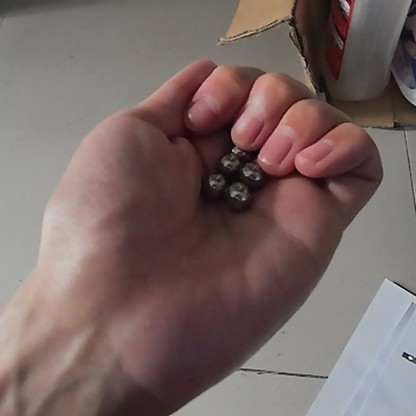ironball: (237, 158, 266, 189), (198, 172, 229, 201), (224, 180, 252, 209), (212, 150, 241, 175), (227, 140, 253, 161)
